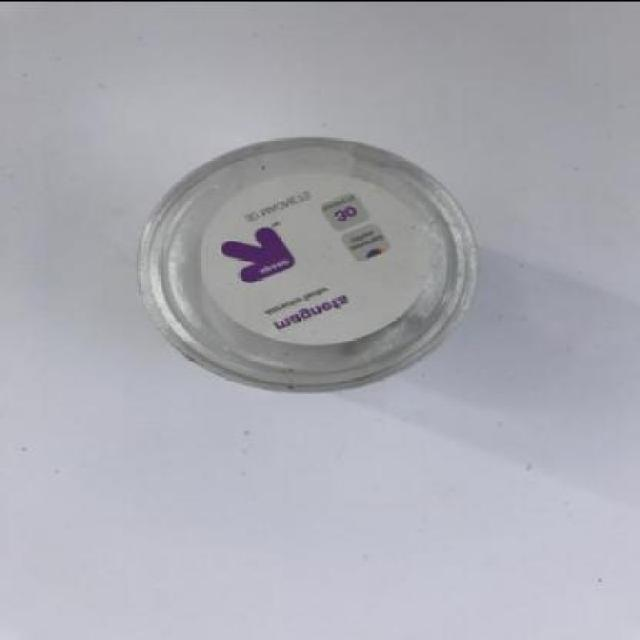PLASTIC: (140, 140, 478, 392)
